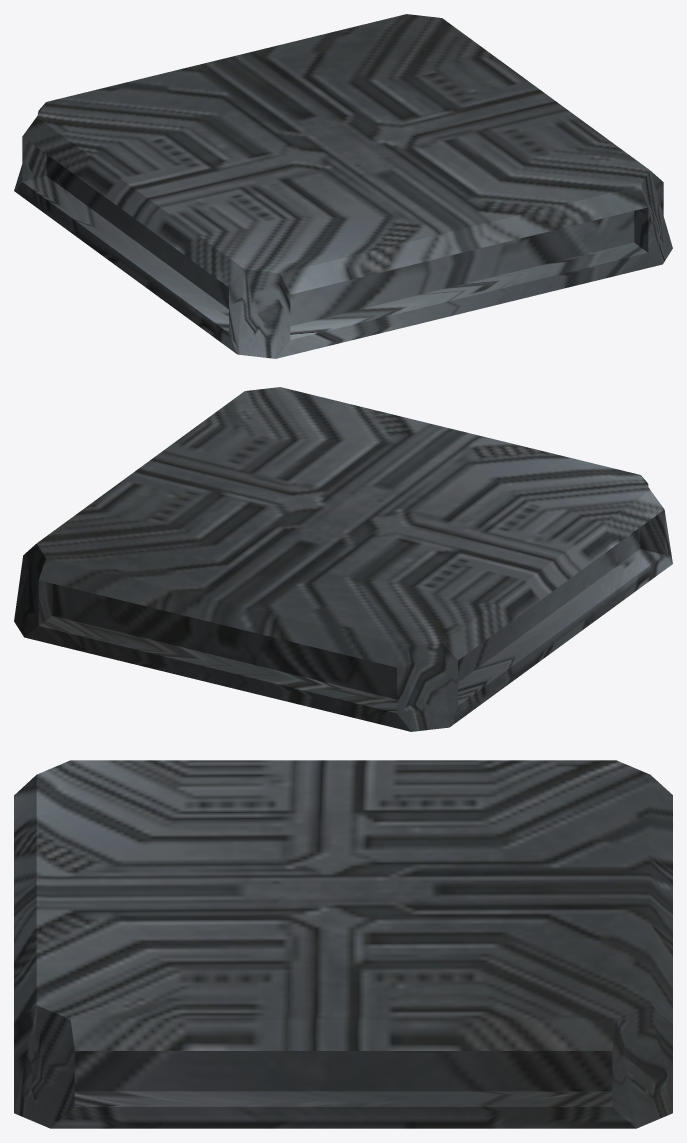
File: platformdefault7.glb
3 renders of one model, top to bottom at view 1: azimuth 30°, elevation 25°; view 2: azimuth 150°, elevation 25°; view 3: azimuth 270°, elevation 25°, orthographic. The views are drawn at different scales.
Parts seen in each view (by area): view 1: box; view 2: box; view 3: box.
Boxes of the visible parts, <box> form: box: <box>14,14,672,358</box>; box: <box>14,387,672,731</box>; box: <box>14,760,672,1128</box>.
Size of the model in its own units: 4.5 by 0.75 by 4.5.
Materials: 1 (1 with a texture image).
